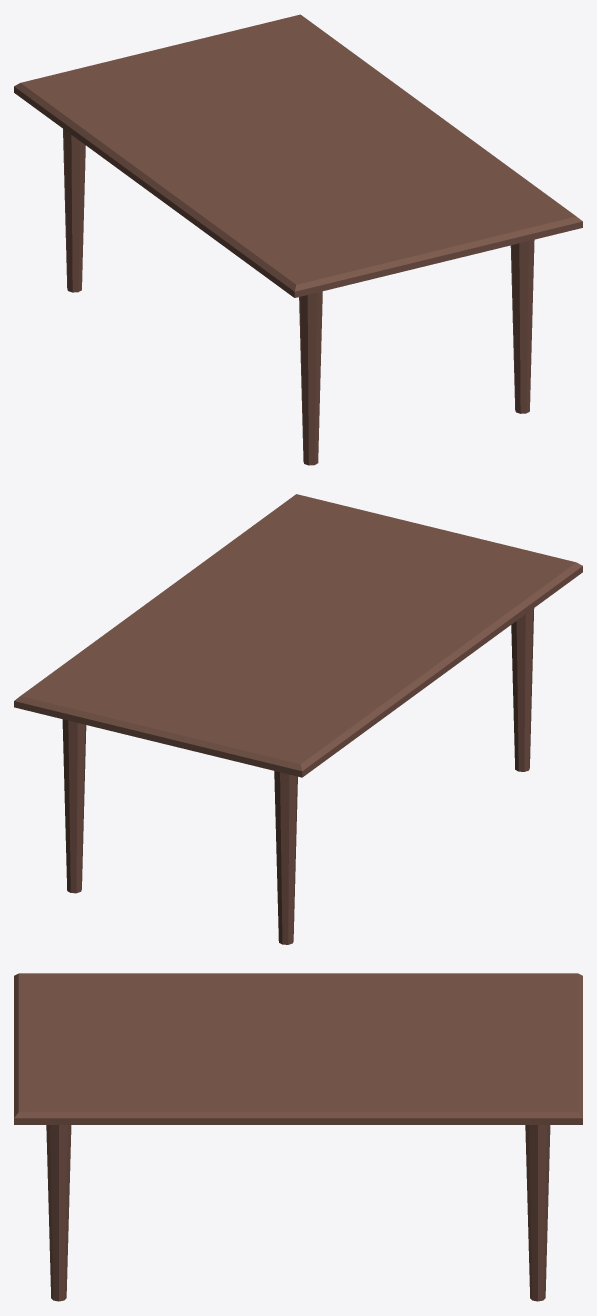
File: table.obj
The picture shows the model from 3 angles, top to bottom: view 1: azimuth 30°, elevation 25°; view 2: azimuth 150°, elevation 25°; view 3: azimuth 270°, elevation 25°; orthographic projection.
Parts seen in each view (by area): view 1: meshTable1; view 2: meshTable1; view 3: meshTable1.
Boxes of the visible parts, x1,y1,x2,y2 form: meshTable1: [14, 14, 582, 465]; meshTable1: [14, 494, 582, 944]; meshTable1: [14, 973, 582, 1301].
Bounding box in the file's own units: 11.74 × 7.8 × 19.8.
